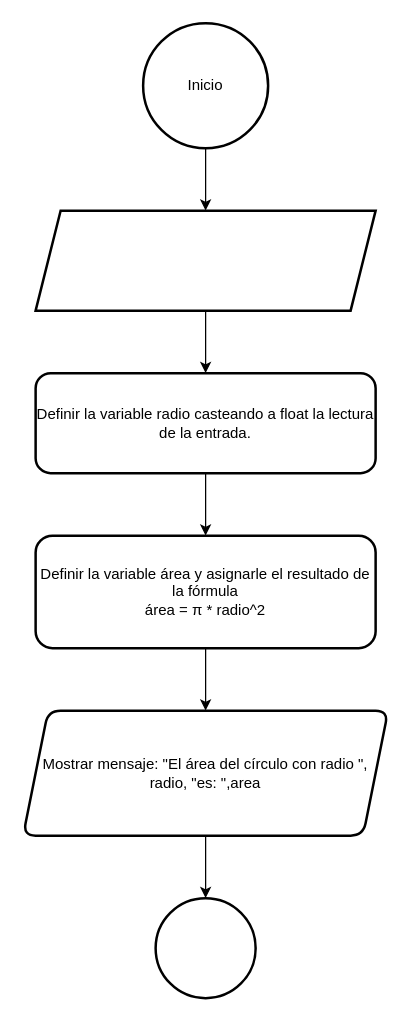
The diagram is 410 pixels wide and 1020 high, and some of its shapes have lost their labels. Each missing label, with the box of its shape:
Fin: (154, 896, 256, 999)
Mostrar mensaje: "Por favor ingrese el radio del círculo: ": (34, 209, 376, 311)
